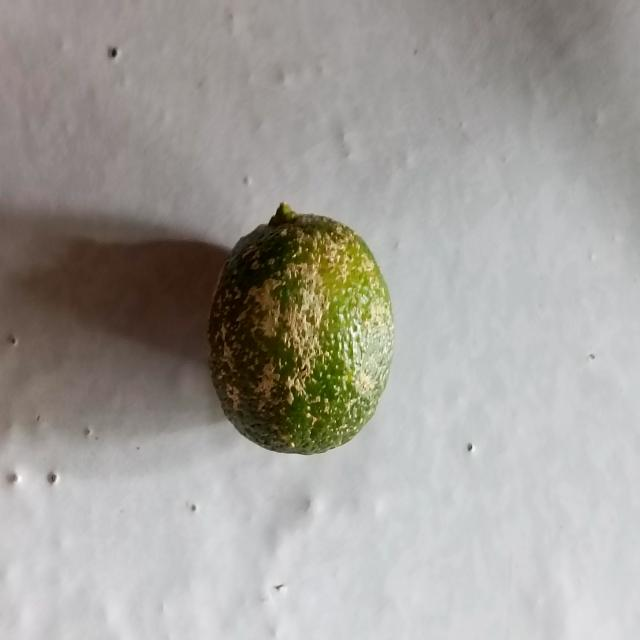scab: (204, 202, 396, 461)
